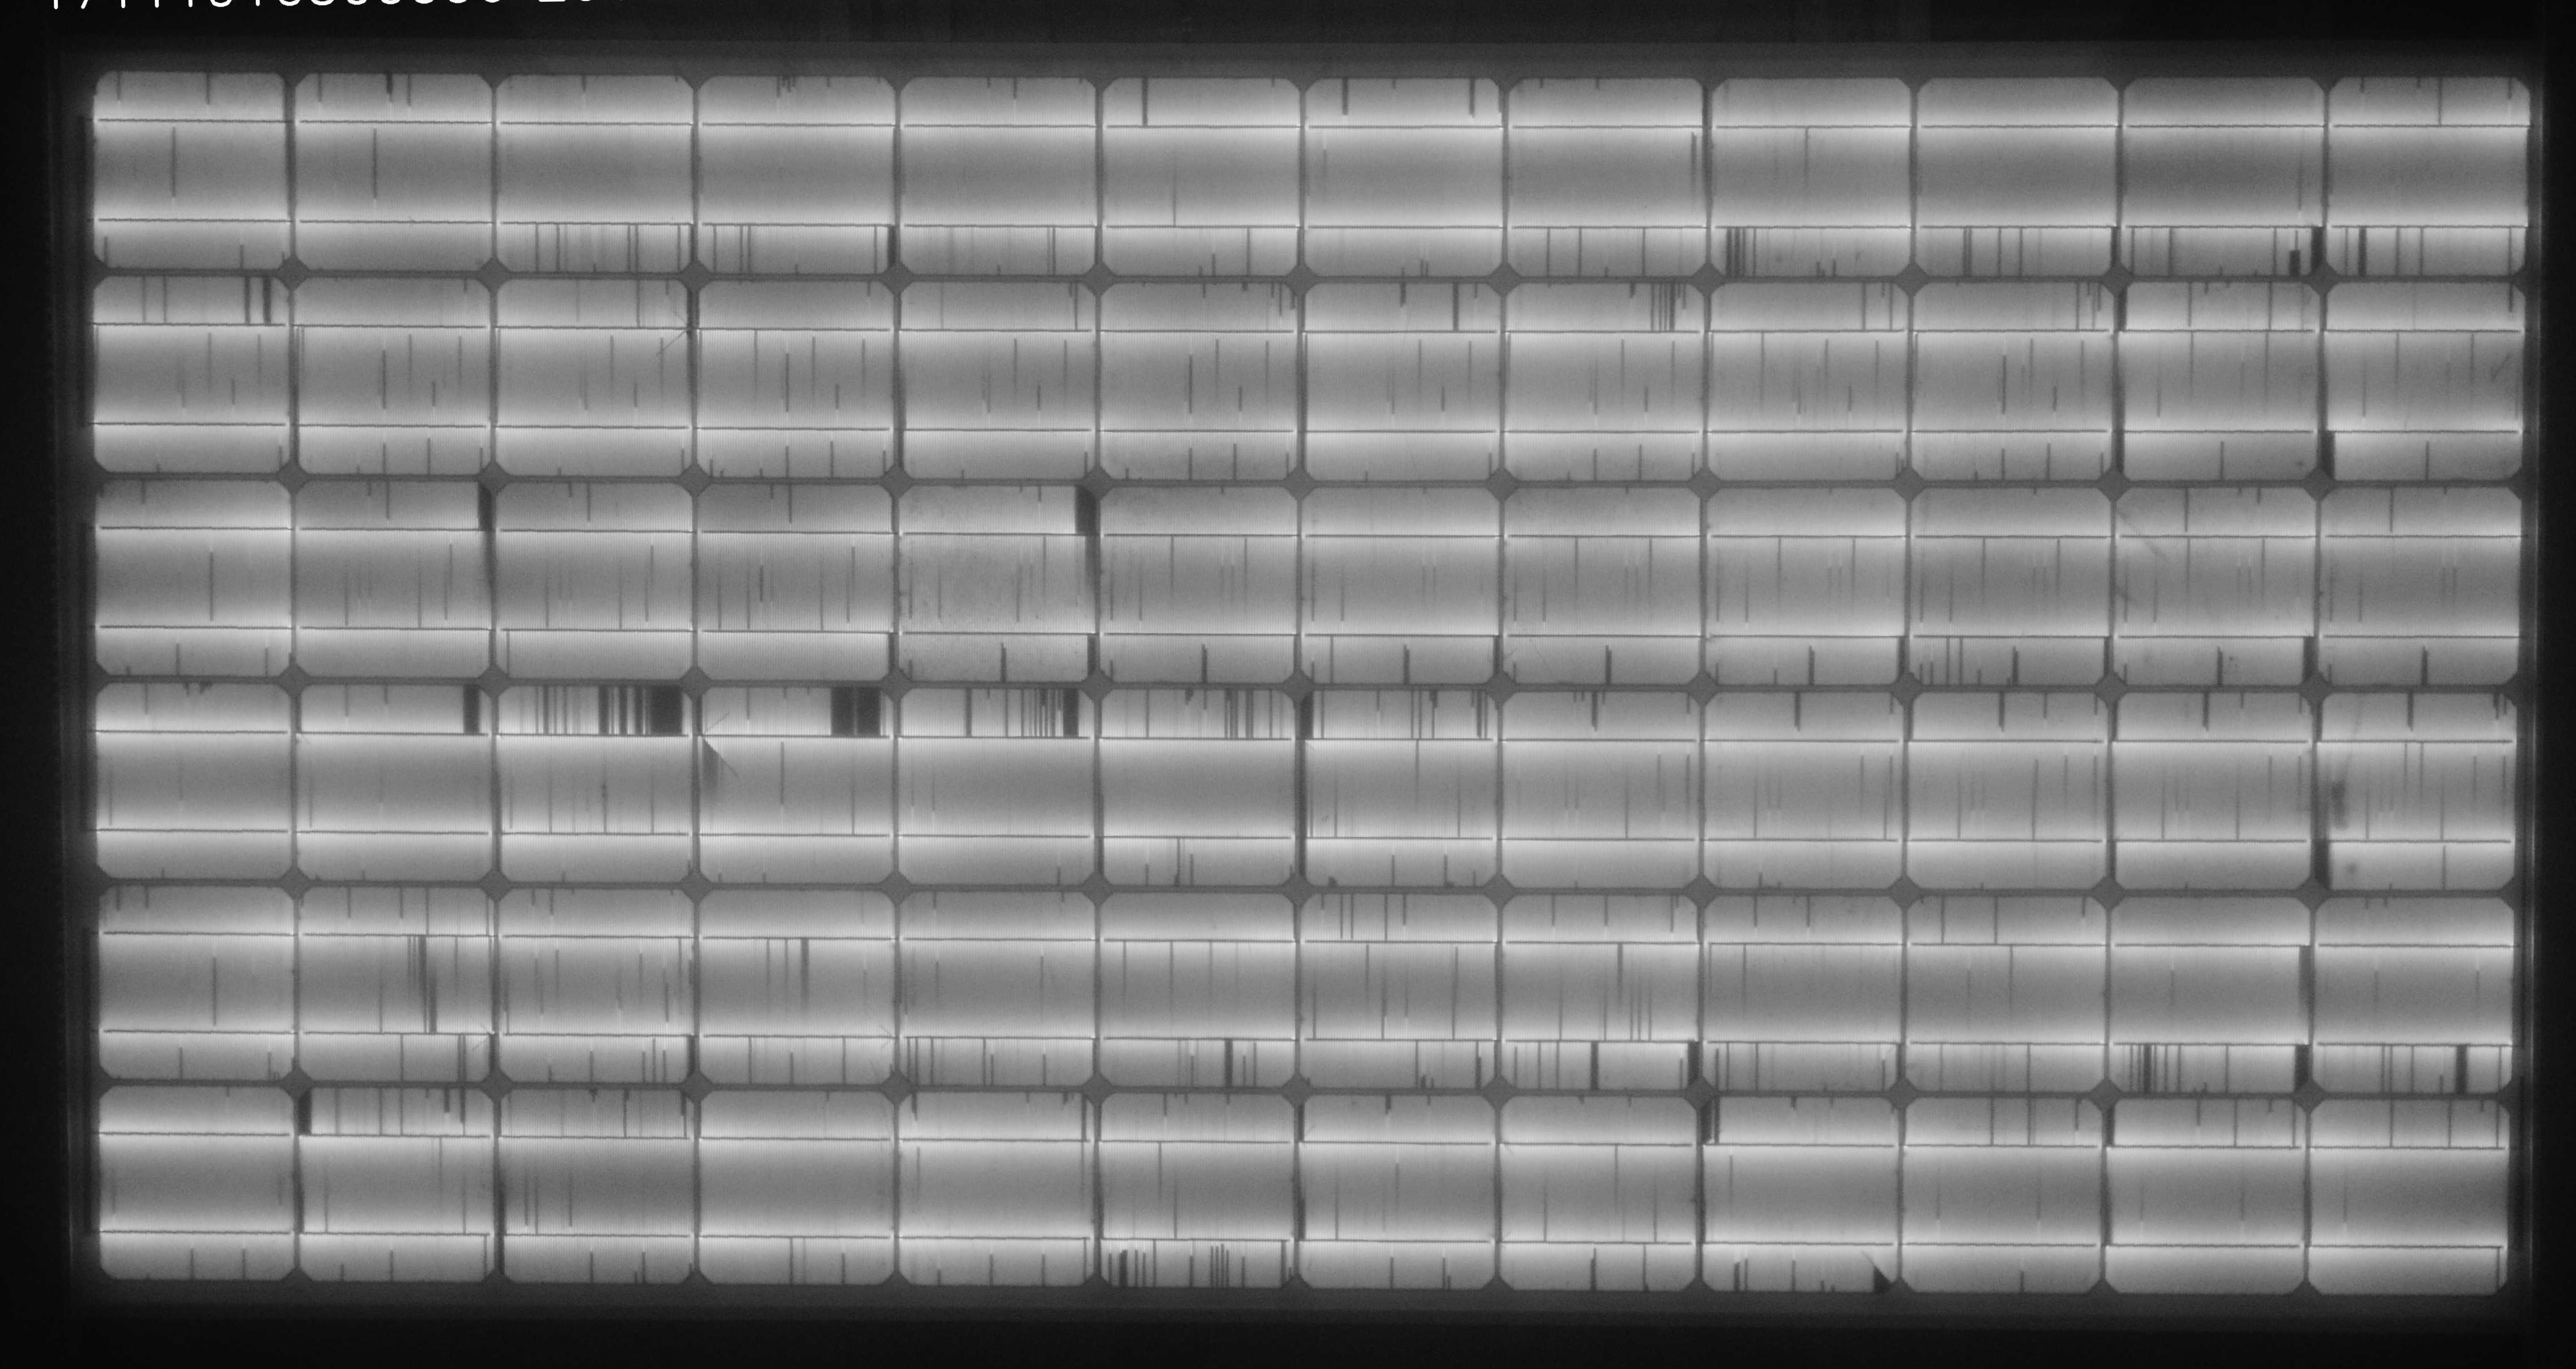5,11: (75, 1064, 322, 1294), (65, 60, 312, 288), (2305, 60, 2552, 288)
